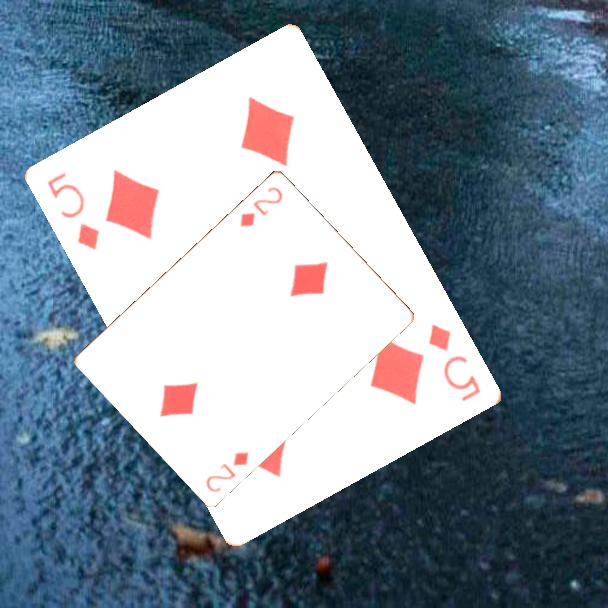d02: (236, 182, 286, 230), (202, 447, 252, 495)
d05: (44, 168, 104, 254), (425, 321, 484, 405)
